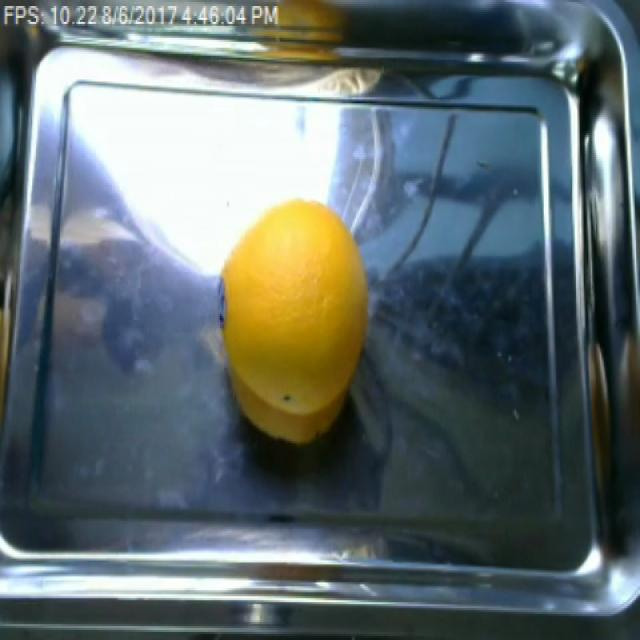Fruit: (215, 191, 373, 447), (270, 0, 358, 32)
